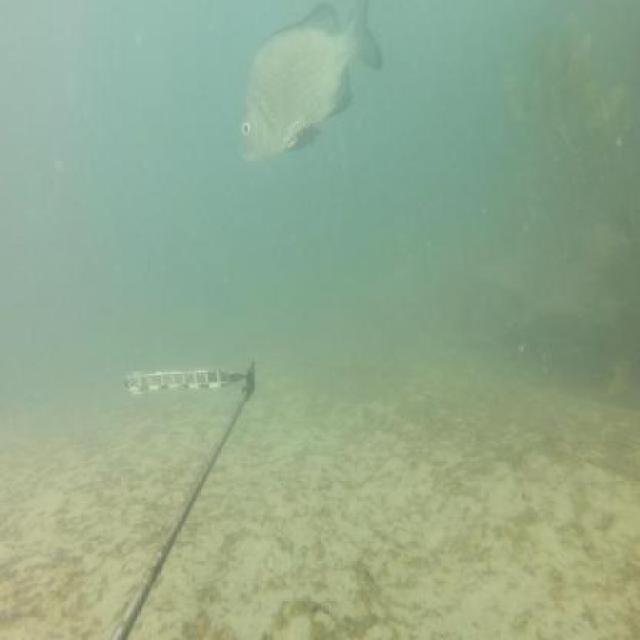acanthopagrus_palmaris: (238, 0, 387, 169)
